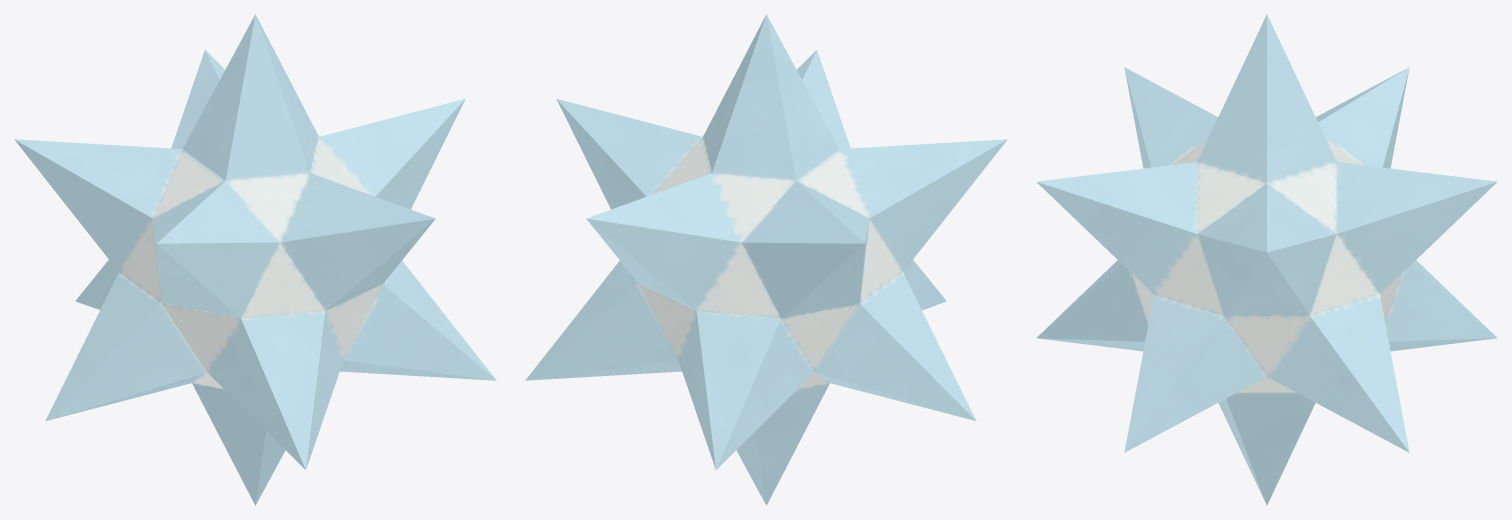
File: star-harbor.glb
3 views of the same model, side by side, from view 1: azimuth 30°, elevation 25°; view 2: azimuth 150°, elevation 25°; view 3: azimuth 270°, elevation 25° (orthographic).
Visible parts, largest first — view 1: Star_Harbor; view 2: Star_Harbor; view 3: Star_Harbor.
Boxes of the visible parts, left/top/right/bottom form: Star_Harbor: left=14, top=14, right=496, bottom=505; Star_Harbor: left=525, top=14, right=1007, bottom=505; Star_Harbor: left=1036, top=14, right=1497, bottom=505.
Bounding box in the file's own units: 3.13 × 3.5 × 2.98.
Materials: 1 (1 with a texture image).
